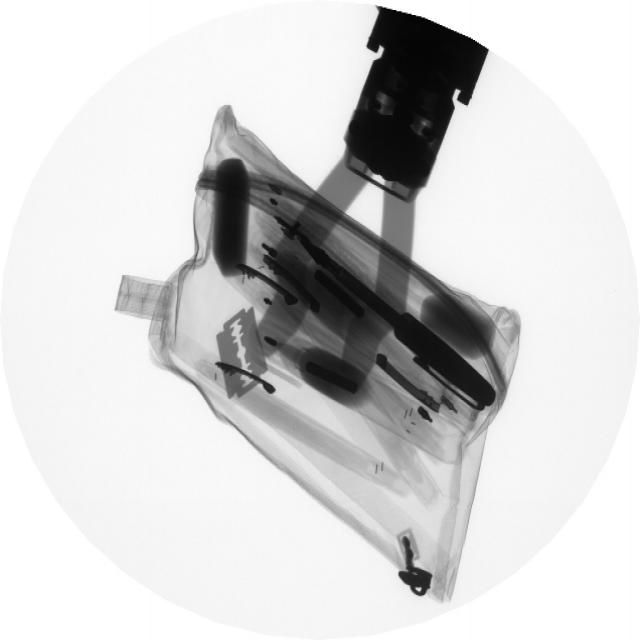BLADE: (213, 298, 278, 397)
